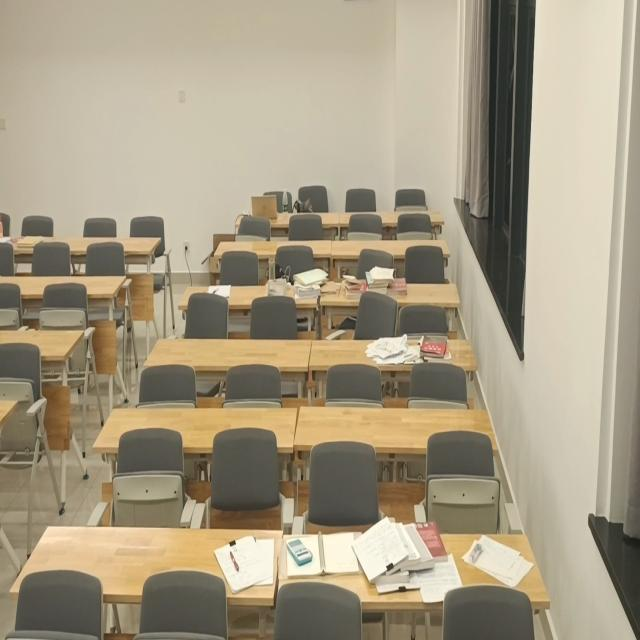Non-empty: (278, 534, 550, 608), (8, 528, 284, 597), (178, 275, 329, 312), (311, 337, 475, 370), (319, 280, 459, 305), (235, 208, 342, 226), (2, 232, 53, 253)
empty: (292, 405, 498, 452), (94, 407, 297, 449), (147, 332, 311, 370), (0, 274, 122, 298), (213, 237, 332, 260), (0, 328, 83, 359), (331, 238, 450, 258), (49, 237, 163, 256), (339, 209, 445, 226), (0, 401, 21, 430)
